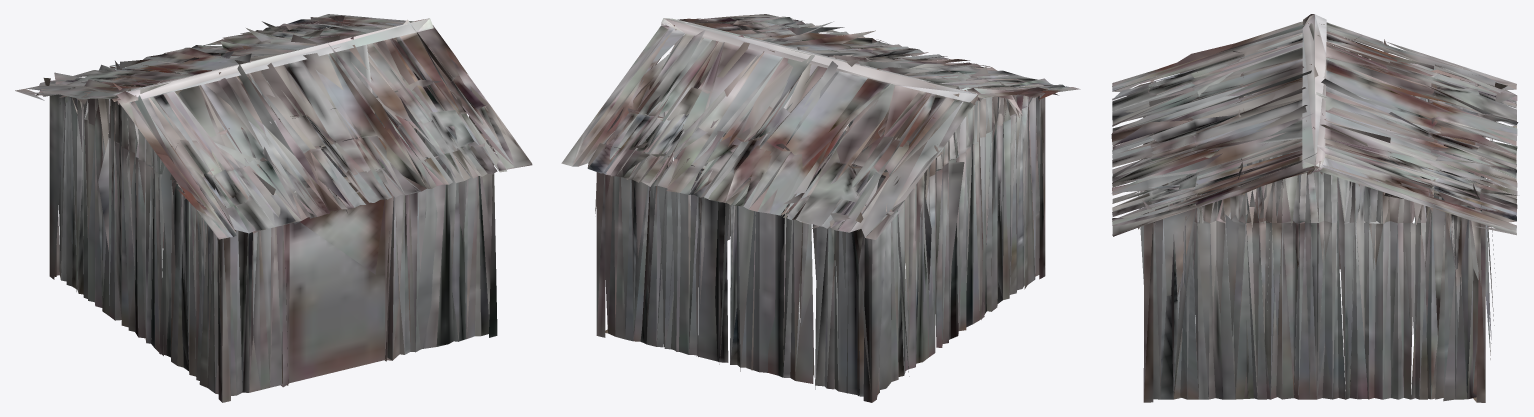
The model's file is shed_metal.glb.
The picture shows the model from 3 angles, left to right: view 1: azimuth 30°, elevation 25°; view 2: azimuth 150°, elevation 25°; view 3: azimuth 270°, elevation 25°; orthographic projection.
Visible parts, largest first — view 1: Mesh_0; view 2: Mesh_0; view 3: Mesh_0.
Boxes of the visible parts, box(x1,y1,x2,y2) form: Mesh_0: box(15, 14, 532, 402); Mesh_0: box(561, 14, 1080, 402); Mesh_0: box(1111, 14, 1518, 402).
Size of the model in its own units: 1.68 by 1.31 by 1.92.
1 material, 1 textured.
